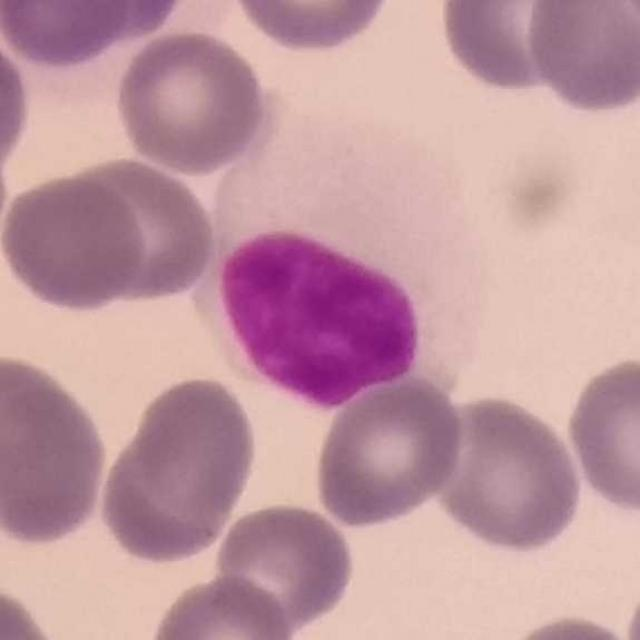Lymphocyte: (213, 111, 486, 411)
RBC: (94, 371, 262, 568), (426, 390, 587, 556), (51, 154, 217, 310), (310, 373, 468, 531), (111, 27, 274, 177), (0, 346, 112, 552), (0, 170, 150, 316), (208, 498, 359, 638), (430, 0, 606, 98), (520, 0, 640, 119), (562, 353, 640, 517), (143, 571, 300, 640), (0, 0, 136, 70), (227, 0, 397, 56), (49, 0, 194, 46), (0, 23, 33, 183), (493, 610, 639, 640), (0, 576, 65, 640)
